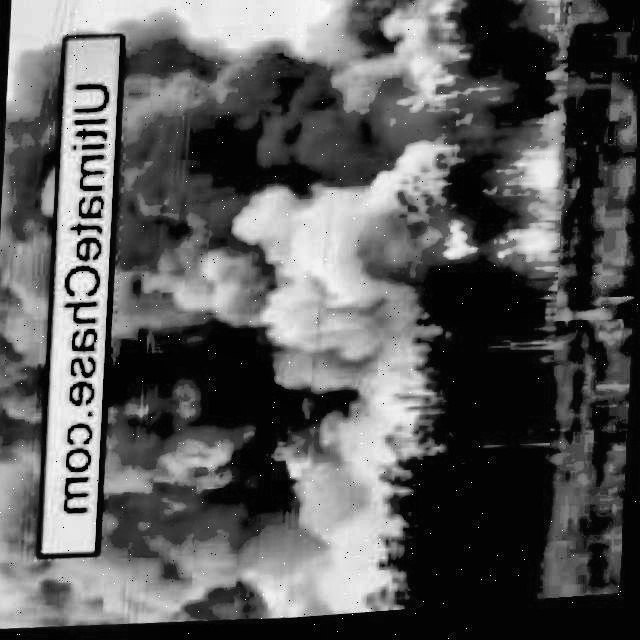Fire: (438, 153, 563, 282), (389, 93, 482, 129), (519, 0, 562, 43)
Smoke: (86, 0, 416, 635), (0, 42, 54, 630)
